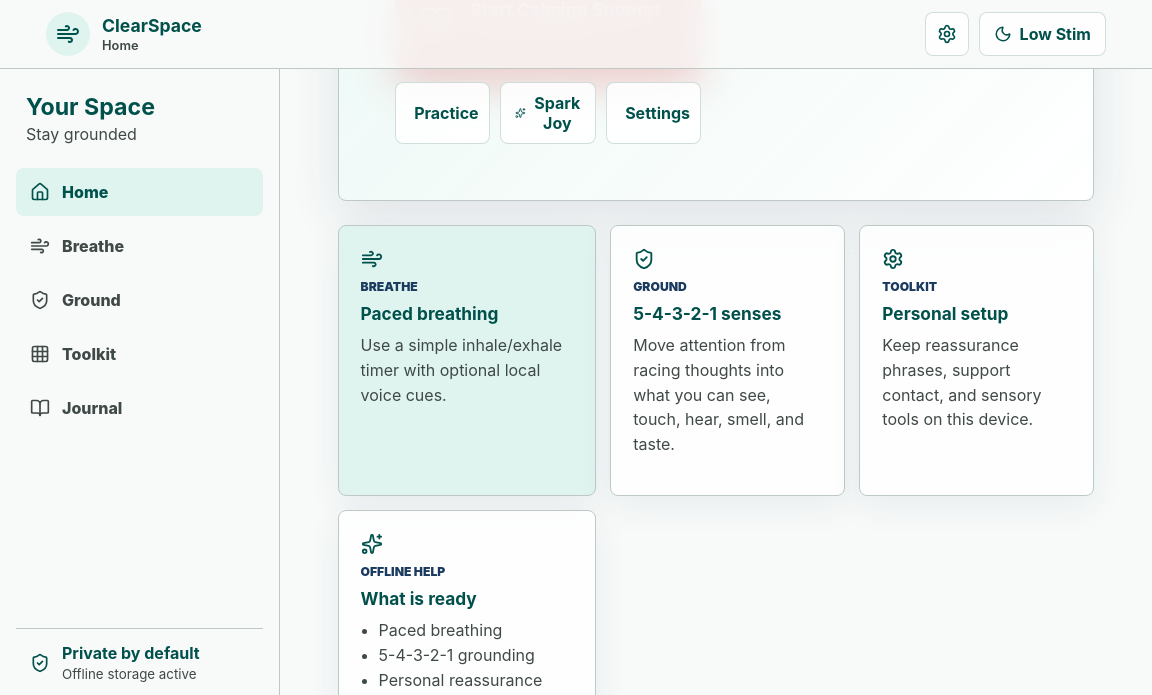
App shell › stores an optional post-calm check-in locally after a tool
(page scrolled)
Click the button "Paced breathing" at (467, 360), box [338,225,596,496]
(page scrolled)
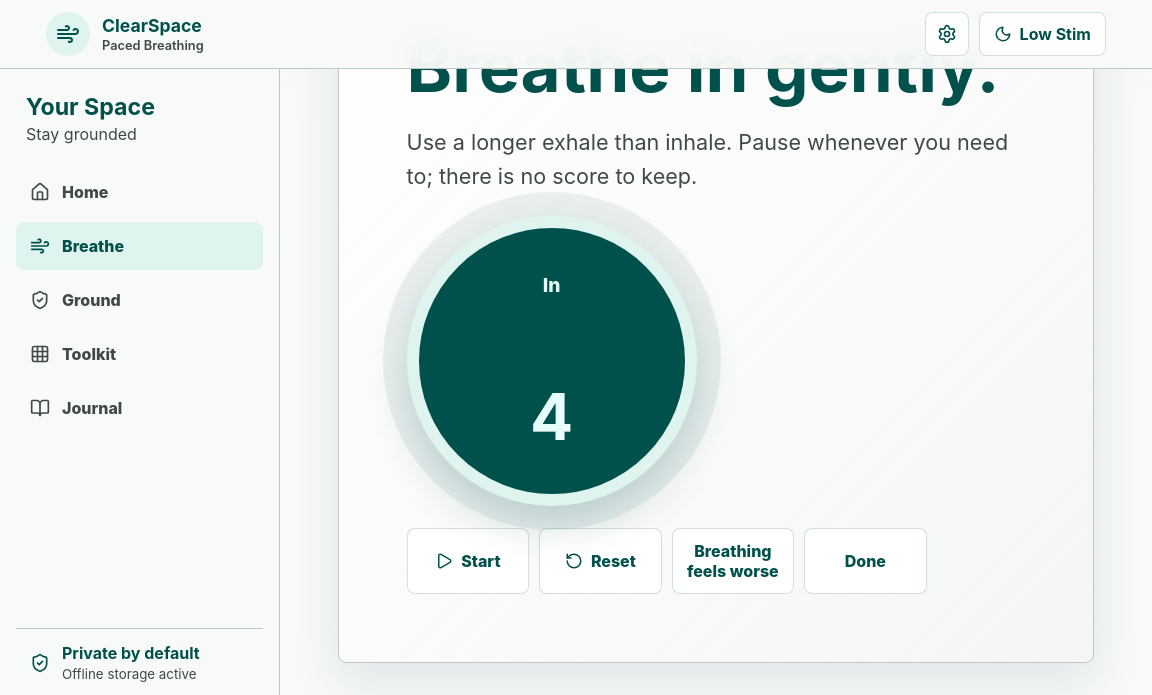
Click the button "Done" at (865, 561), box [804,528,927,594]
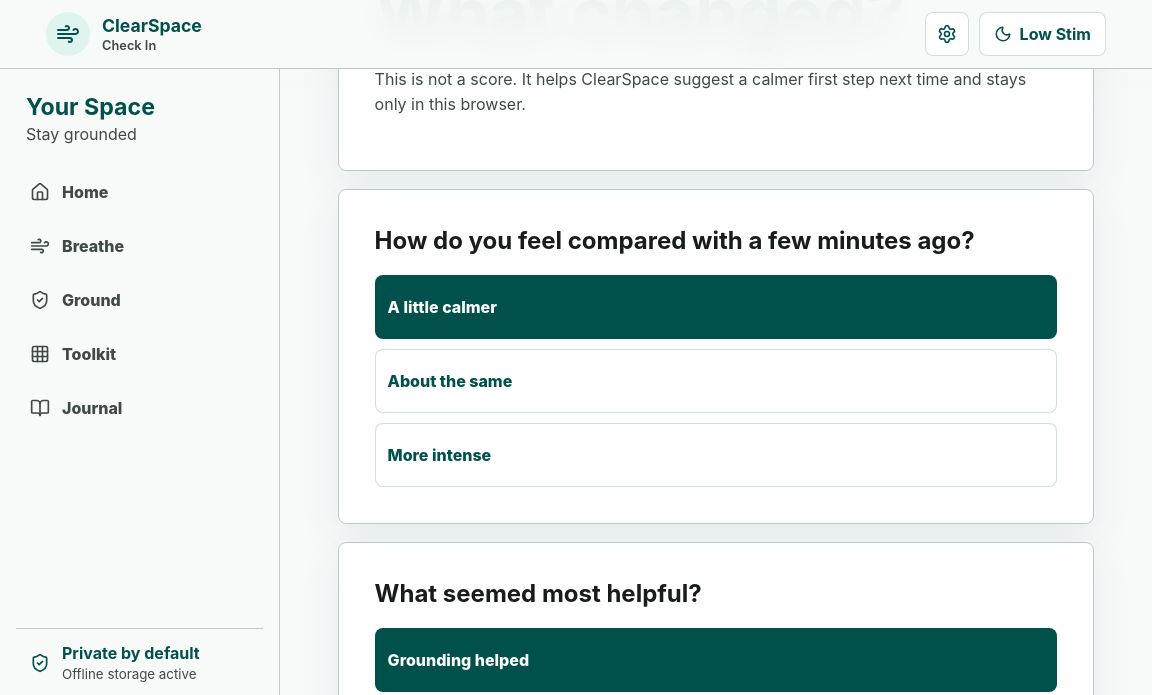
Click the button "A little calmer" at (442, 307), box [375,275,1057,339]
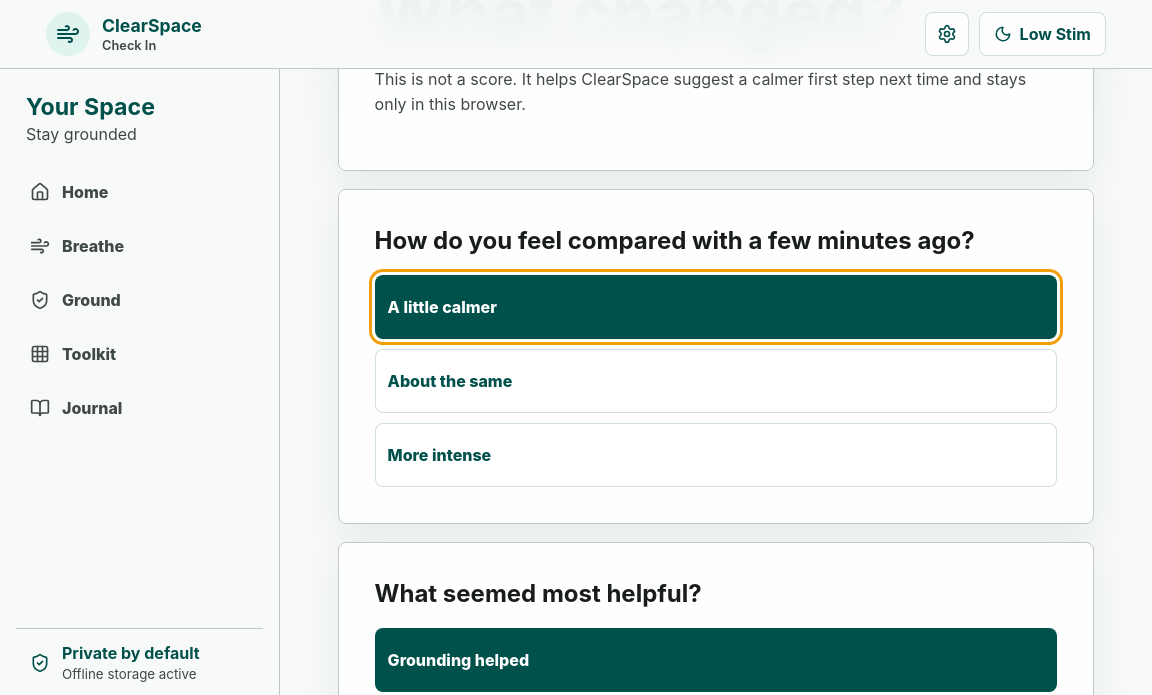
Click the button "Grounding helped" at (458, 660), box [375,628,1057,692]
(page scrolled)
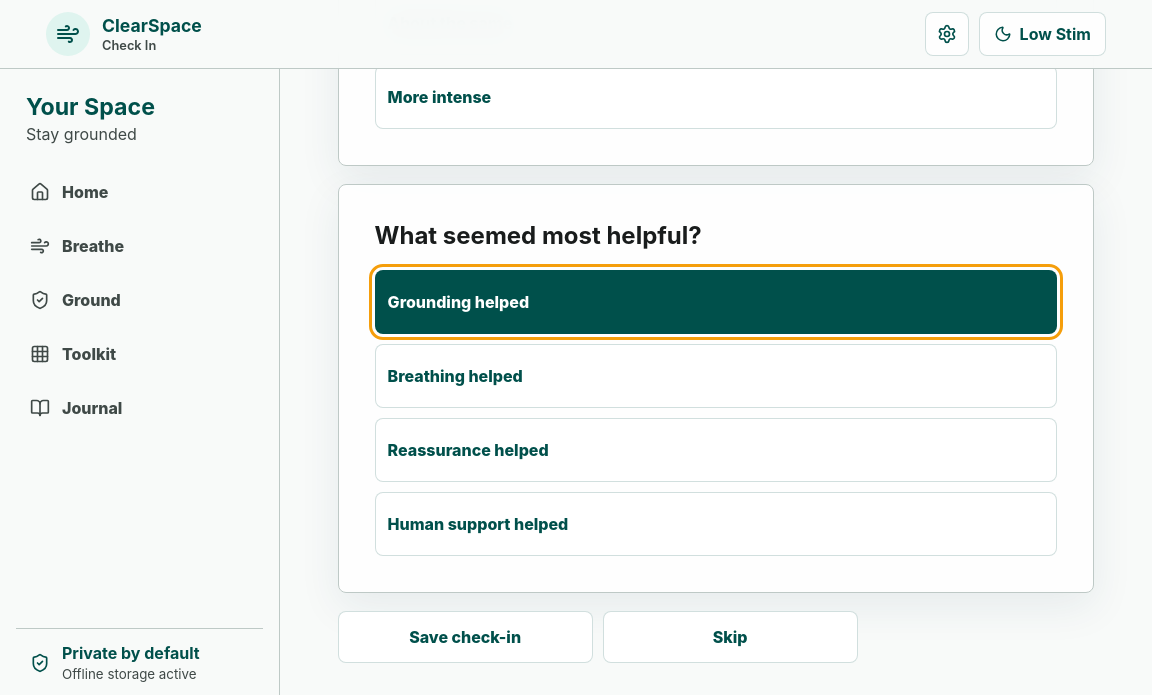
Click the button "Save check-in" at (465, 637), box [338,611,593,663]
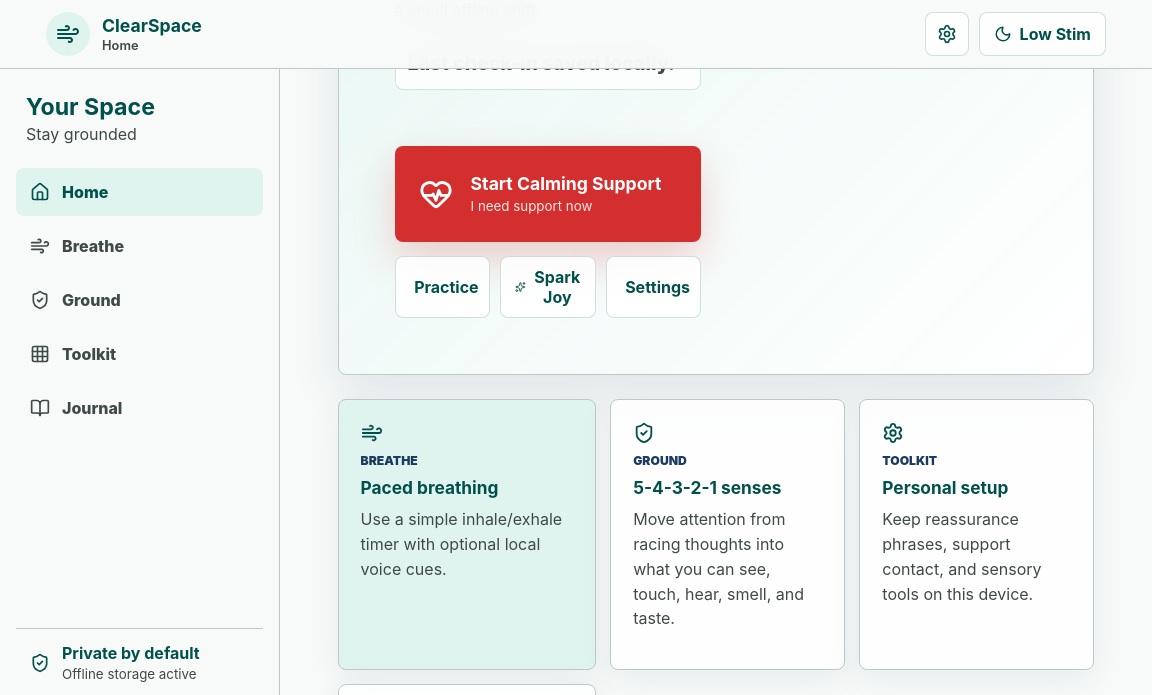
Result: the text "Last check-in saved locally." is shown at [395,36,701,90]
